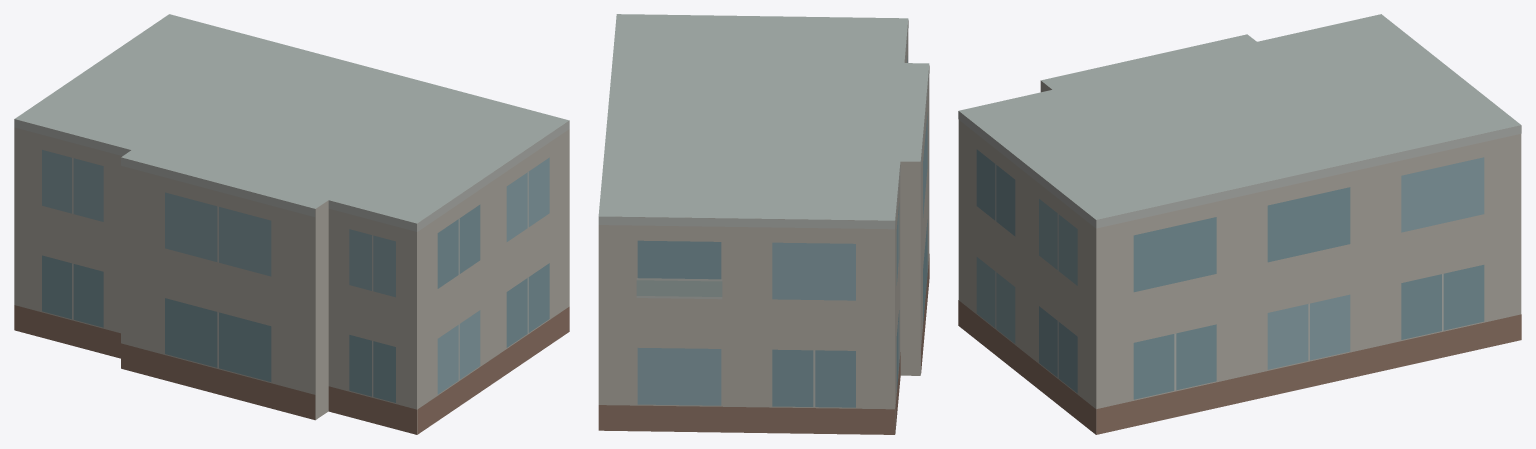
File: survey-upis-32907863.glb
3 views of the same model, side by side, from view 1: azimuth 30°, elevation 25°; view 2: azimuth 150°, elevation 25°; view 3: azimuth 270°, elevation 25° (orthographic).
Visible parts, largest first — view 1: survey-upis-32907863.tmp; view 2: survey-upis-32907863.tmp; view 3: survey-upis-32907863.tmp.
Part boxes in pixels (x1,y1,x2,y2): survey-upis-32907863.tmp: (14,14,569,434); survey-upis-32907863.tmp: (598,14,929,434); survey-upis-32907863.tmp: (958,14,1521,434).
Bounding box in the file's own units: 12.55 × 6.1 × 14.49.
